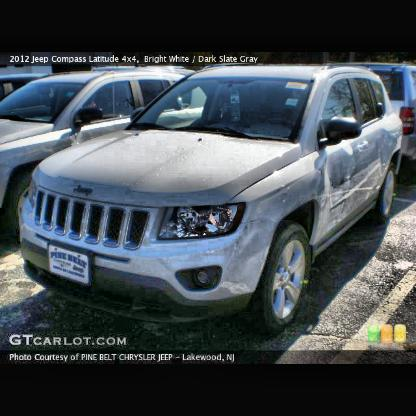Jeep Compass SUV 2012: (21, 64, 404, 329)
